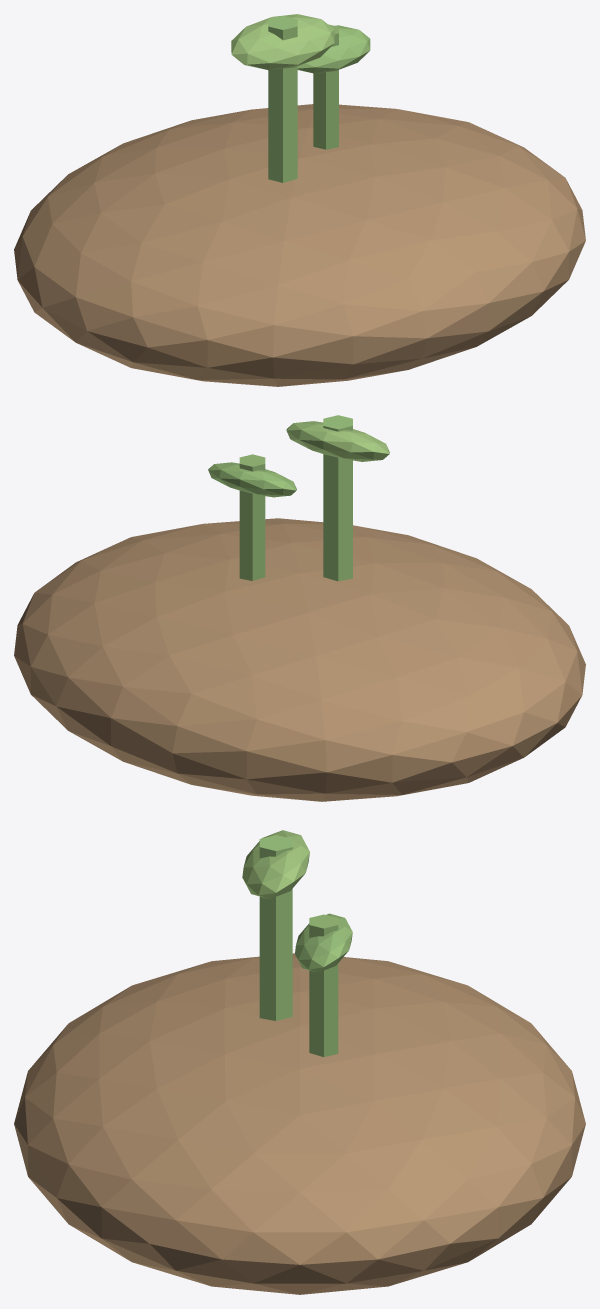
File: yerba_brote.glb
3 renders of one model, top to bottom at view 1: azimuth 30°, elevation 25°; view 2: azimuth 150°, elevation 25°; view 3: azimuth 270°, elevation 25°, orthographic. The views are drawn at different scales.
Visible parts, largest first — view 1: dirt, s1, l1, s2, l2; view 2: dirt, s1, s2, l1, l2; view 3: dirt, s1, s2, l1, l2.
Part boxes in pixels (x1,y1,x2,y2): dirt: (14,104,585,386); s1: (268,16,297,182); l1: (231,14,334,70); s2: (313,24,338,149); l2: (297,25,370,73); dirt: (14,518,585,801); s1: (323,415,352,581); s2: (239,454,265,580); l1: (286,421,389,461); l2: (208,462,296,497); dirt: (14,953,585,1294); s1: (259,835,292,1020); s2: (309,914,338,1057); l1: (242,830,309,899); l2: (295,913,352,972).
Size of the model in its own units: 0.28 by 0.168 by 0.24.
